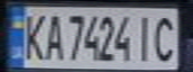2: (97, 11, 118, 62)
4: (112, 11, 136, 62), (81, 10, 100, 62)
7: (63, 10, 84, 61)
A: (42, 10, 66, 61)
C: (148, 11, 181, 63)
I: (133, 11, 157, 62)
K: (18, 10, 48, 61)
